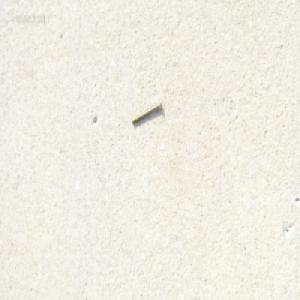Bolt: (130, 100, 161, 125)
